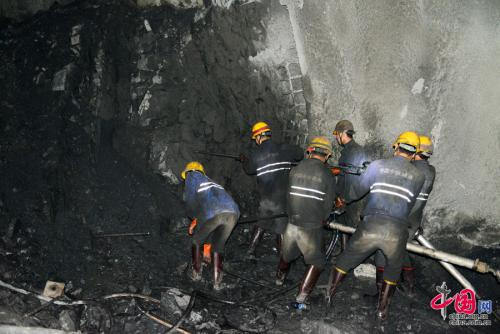helmet: (305, 134, 332, 168), (392, 130, 421, 159), (248, 119, 274, 150), (179, 160, 206, 185), (333, 118, 356, 146), (417, 133, 435, 165)
